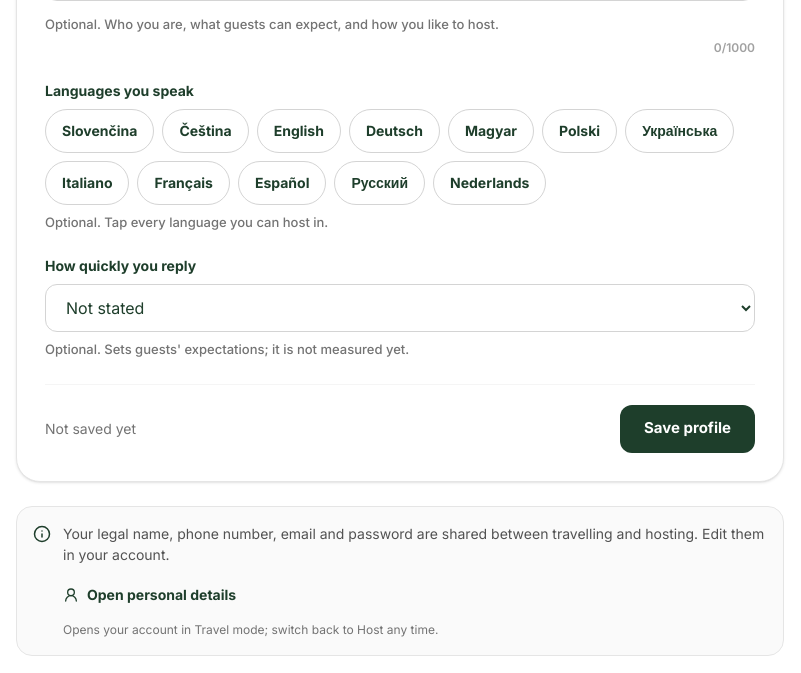
Scenario: HostProfilePage save lifecycle › persists the first save even when the suggested default is accepted unchanged
The width and height of the screenshot is (801, 673).
(page scrolled)
Expected: the text "Not saved yet" is shown, [45,418,136,438]
Click the button "Save profile": (688, 428) [620,404,755,452]
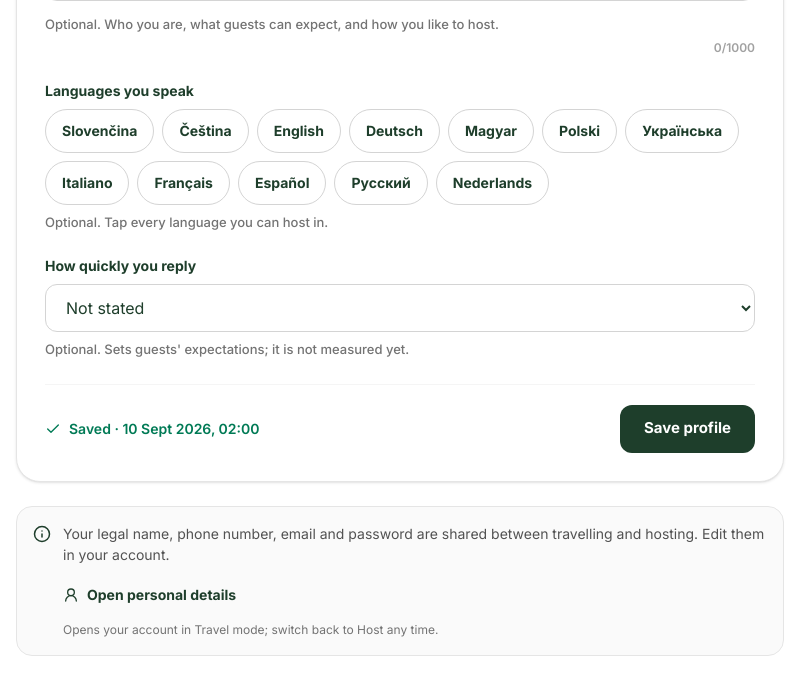
Result: the message "Saved · 10 Sept 2026, 02:00" is shown at [45,418,260,438]
